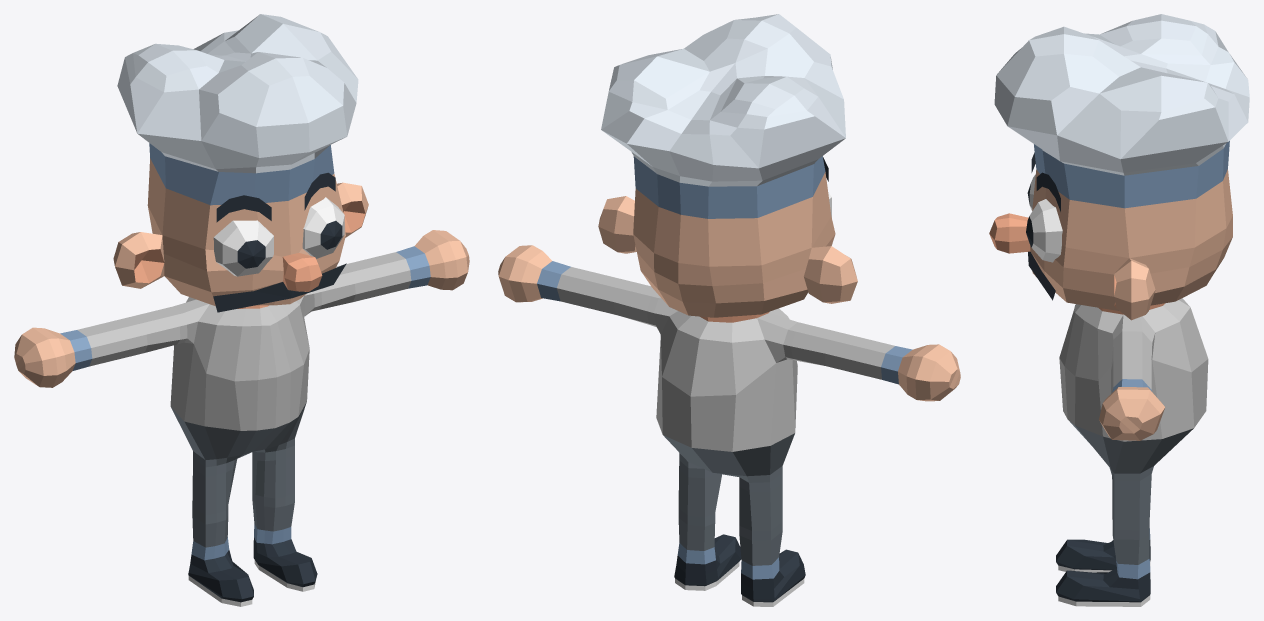
Rendered from PovarichREMESH (4).fbx.
3 renders of one model, left to right at view 1: azimuth 30°, elevation 25°; view 2: azimuth 150°, elevation 25°; view 3: azimuth 270°, elevation 25°, orthographic. The views are drawn at different scales.
Visible parts, largest first — view 1: Brr; view 2: Brr; view 3: Brr.
Boxes of the visible parts, x1,y1,x2,y2 form: Brr: [14, 14, 469, 606]; Brr: [498, 14, 960, 606]; Brr: [989, 14, 1249, 606].
Size of the model in its own units: 82.93 by 95.91 by 41.26.
